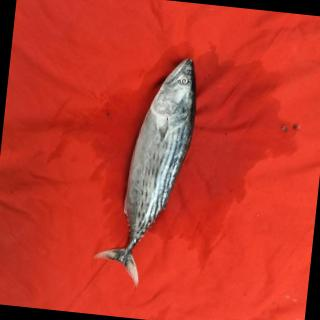Ikan: (93, 40, 207, 288)
